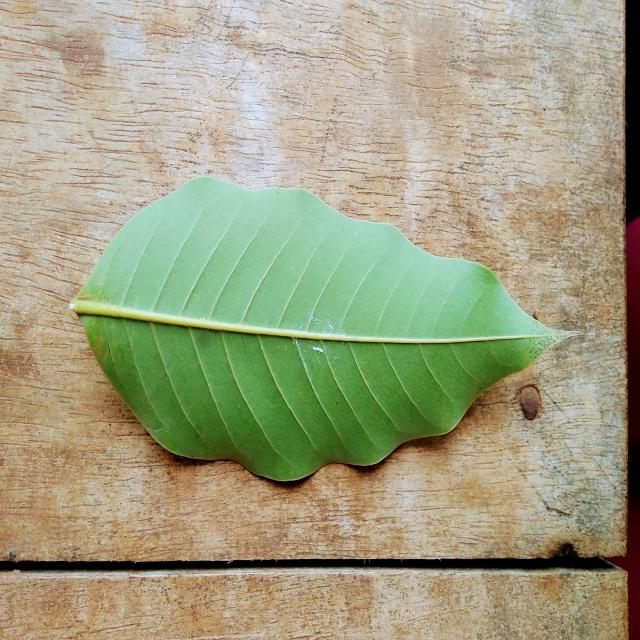sampige: (72, 178, 560, 480)
